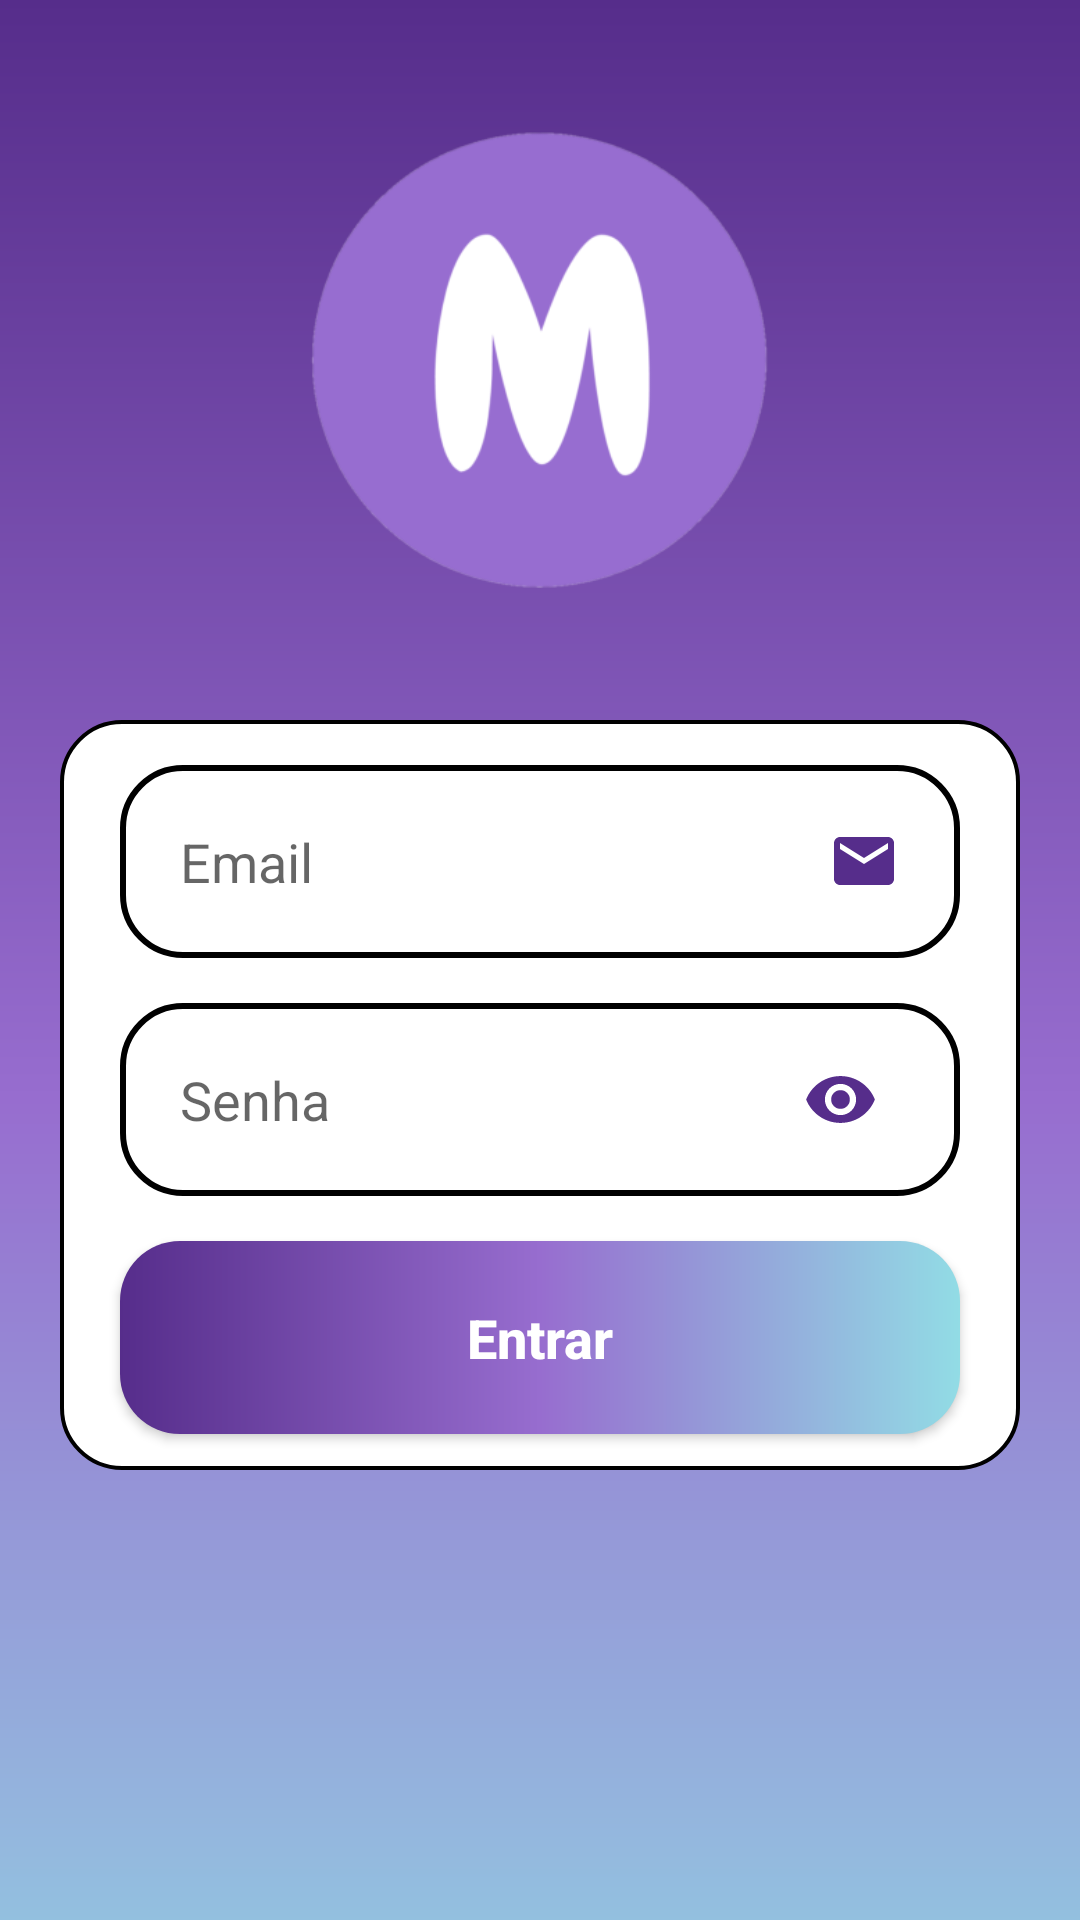

Locate icon controls on the screen. Image size 1080px x 1920px, boxes as rect(x1, y1, x2, y2).
eye: rect(806, 1076, 875, 1123)
